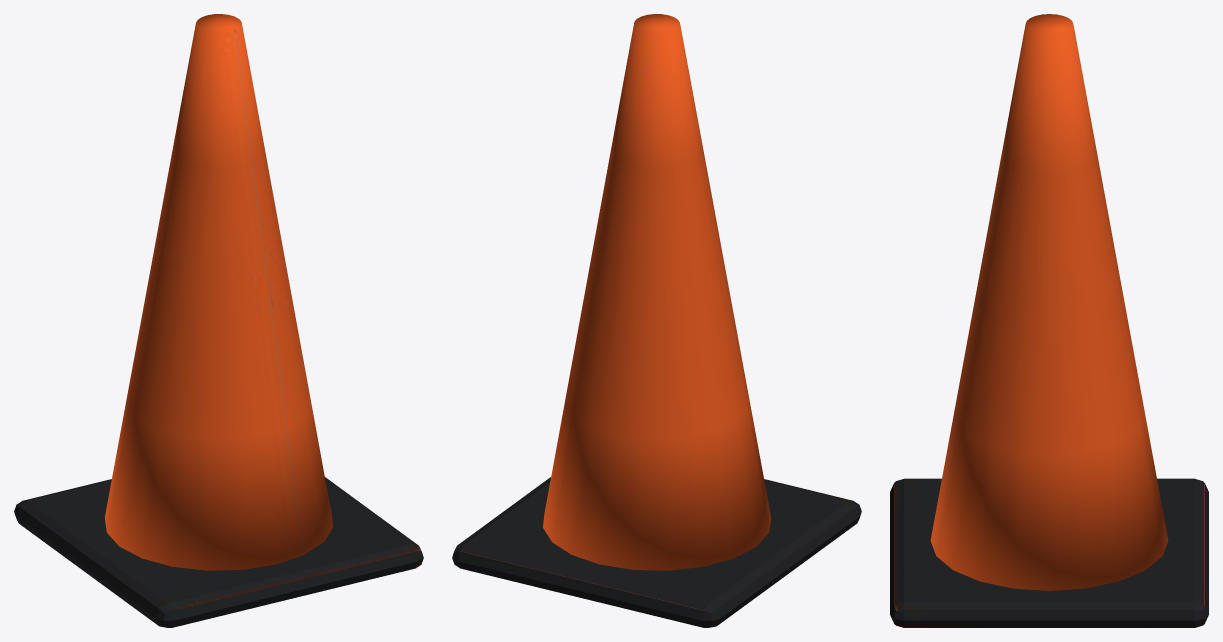
File: traffic_cone.glb
3 renders of one model, left to right at view 1: azimuth 30°, elevation 25°; view 2: azimuth 150°, elevation 25°; view 3: azimuth 270°, elevation 25°, orthographic. The views are drawn at different scales.
Visible parts, largest first — view 1: traffic_cone; view 2: traffic_cone; view 3: traffic_cone.
Part boxes in pixels (<box>): traffic_cone: <box>14,14,423,627</box>; traffic_cone: <box>452,14,861,627</box>; traffic_cone: <box>890,14,1208,627</box>.
Size of the model in its own units: 0.4 by 0.75 by 0.4.
Materials: 1 (1 with a texture image).
